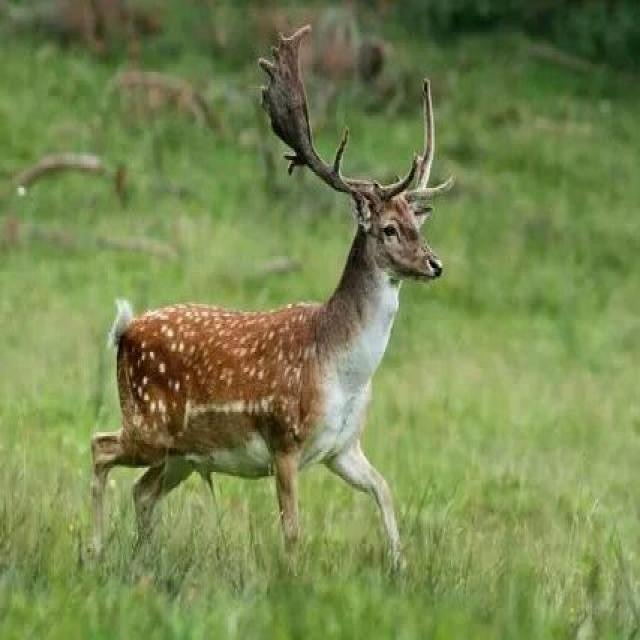deer: (84, 87, 426, 514)
